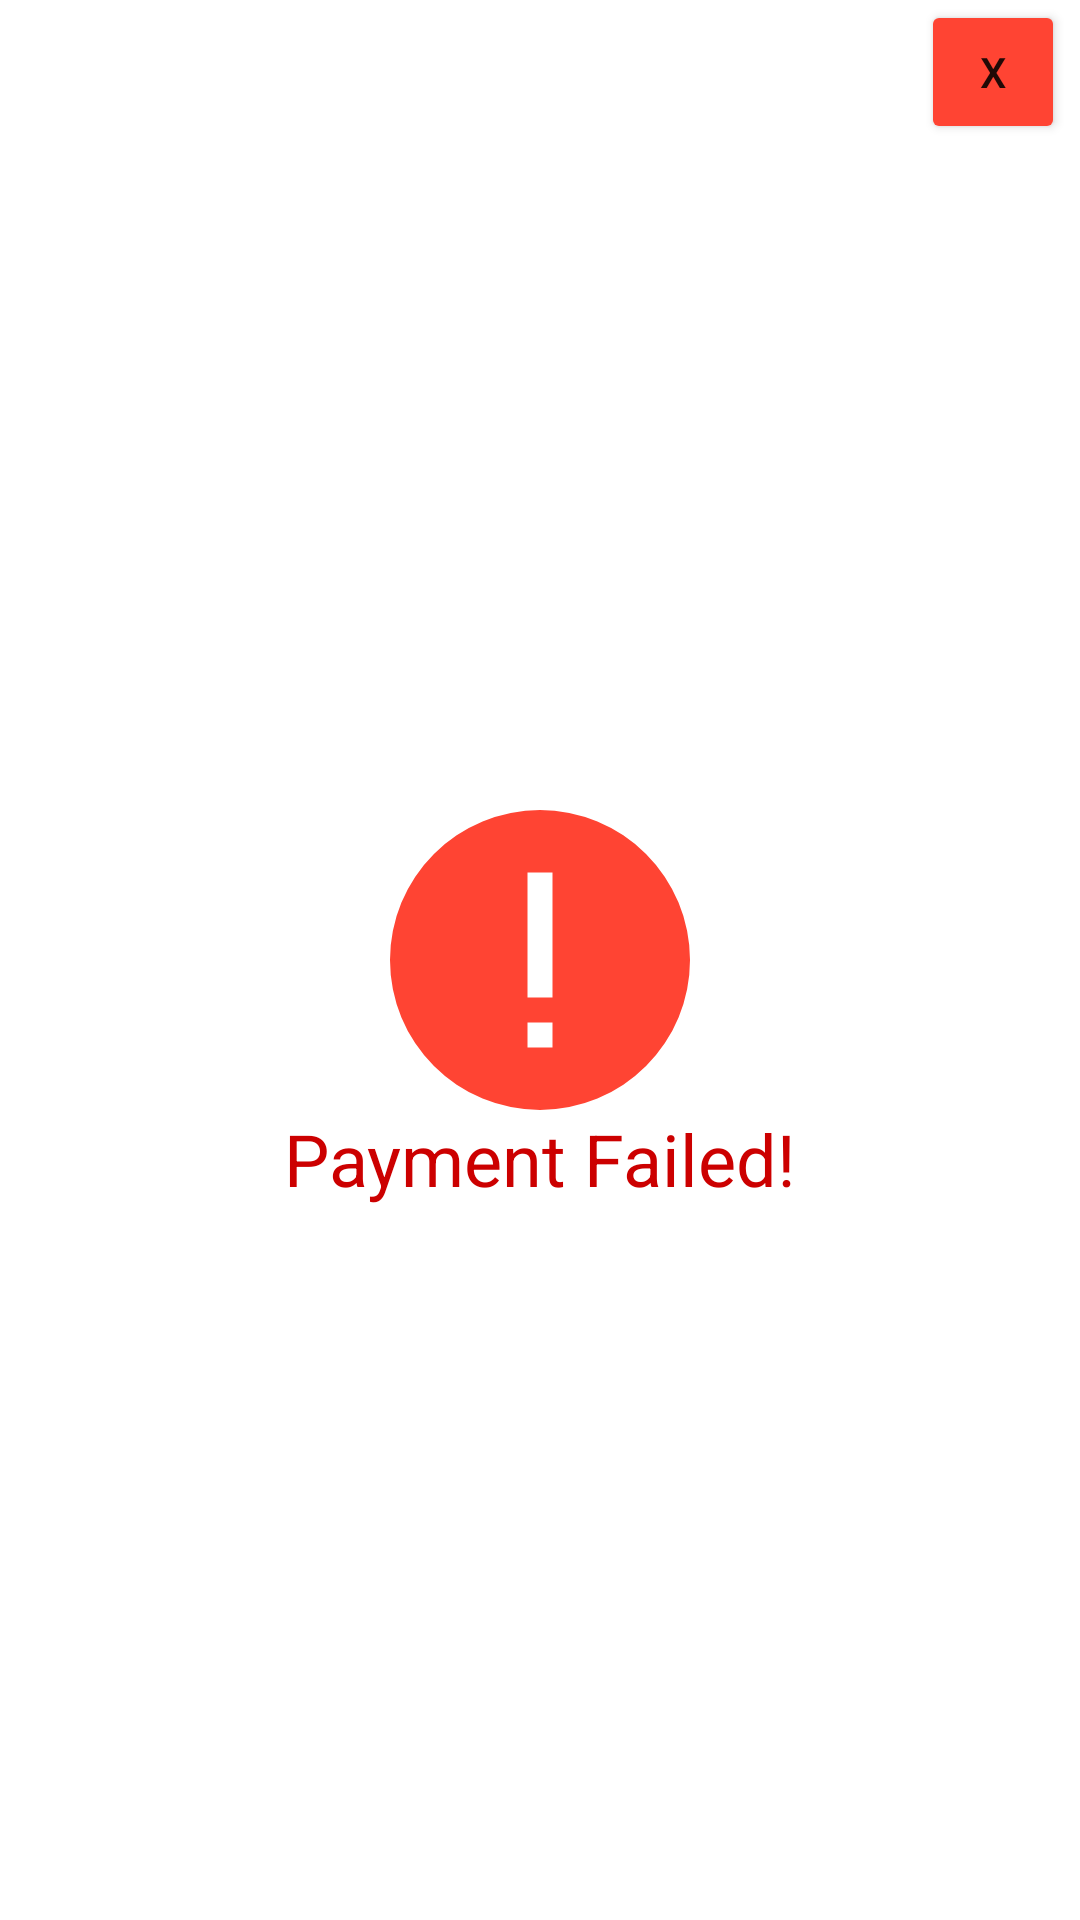

Where to tap for icons on this 1080*1920 app screen, as (x,y):
exclamation: (540,960)
